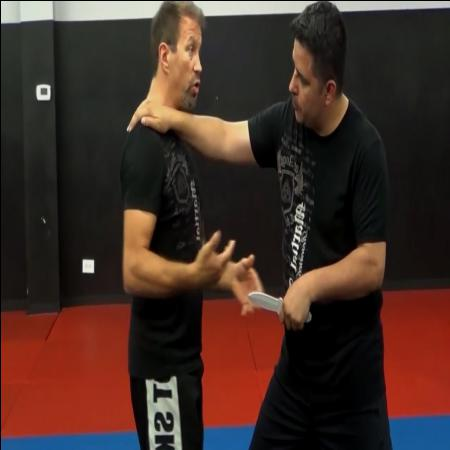long weapon: (245, 286, 313, 326)
